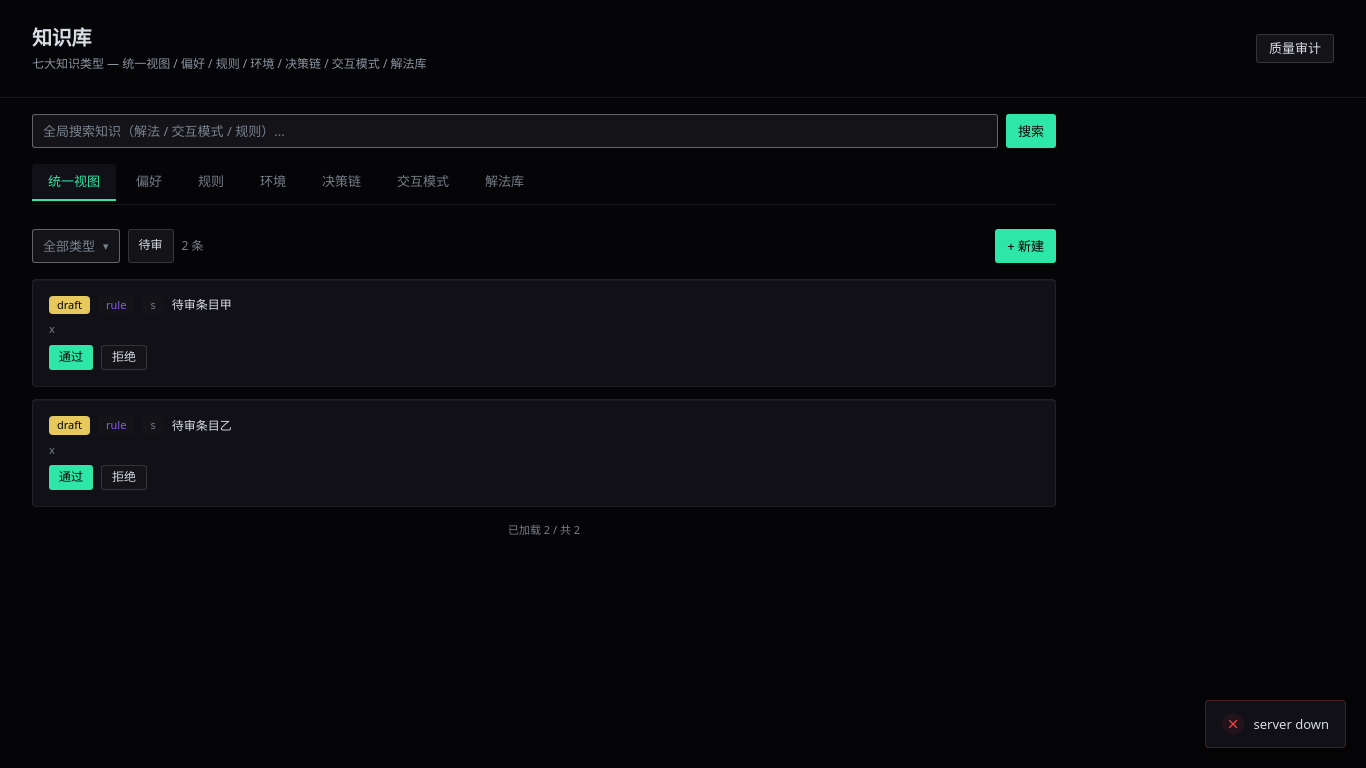
Test: E5: 待审筛选 + draft 条目审批（promote/demote） › 点「通过」调 promote 并把条目移出列表；点「拒绝」调 demote
The width and height of the screenshot is (1366, 768).
Click the button "通过" below "待审条目甲" at (71, 357), box top-left (49, 345), bottom-right (93, 370)
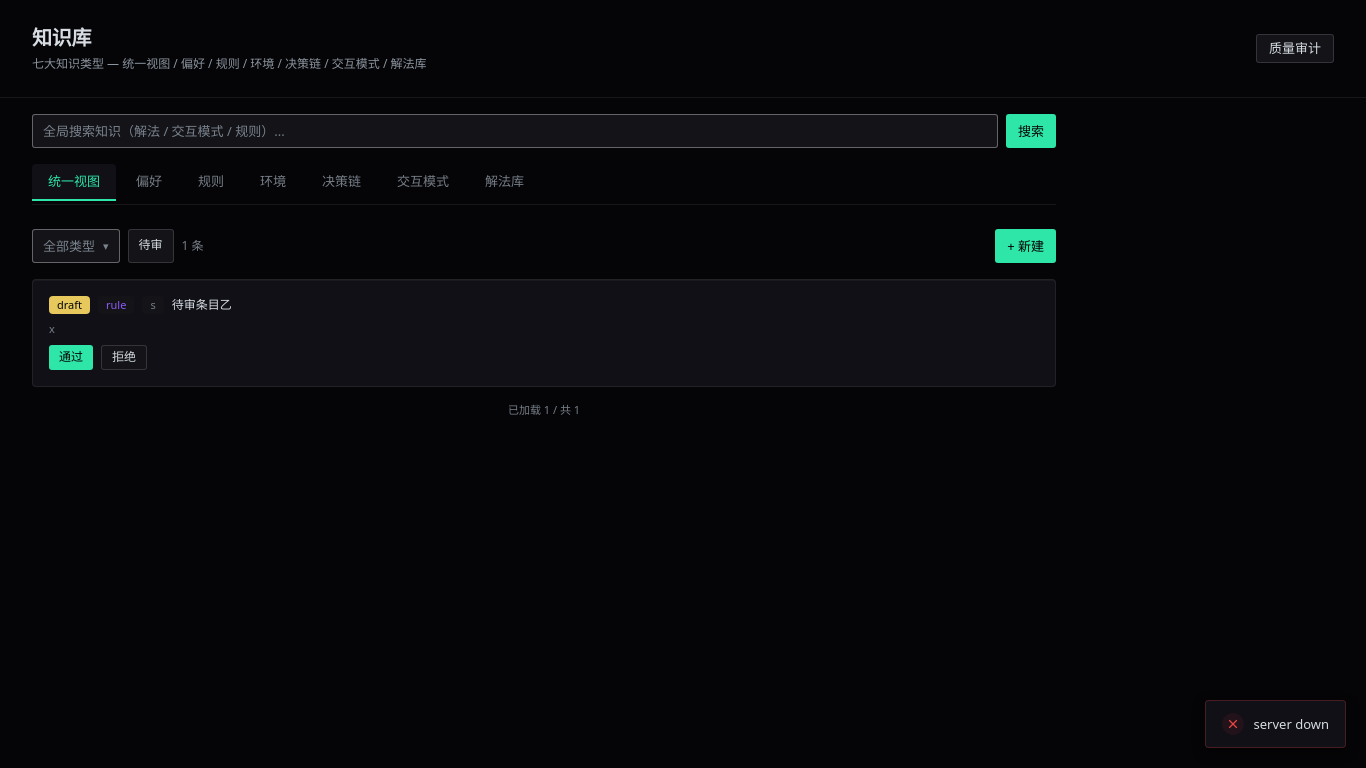
Expected: the text "待审条目乙" is shown, top-left (172, 296), bottom-right (232, 314)
Expected: the text "待审条目甲" is gone
Click the button "拒绝" at (124, 357), box top-left (101, 345), bottom-right (147, 370)
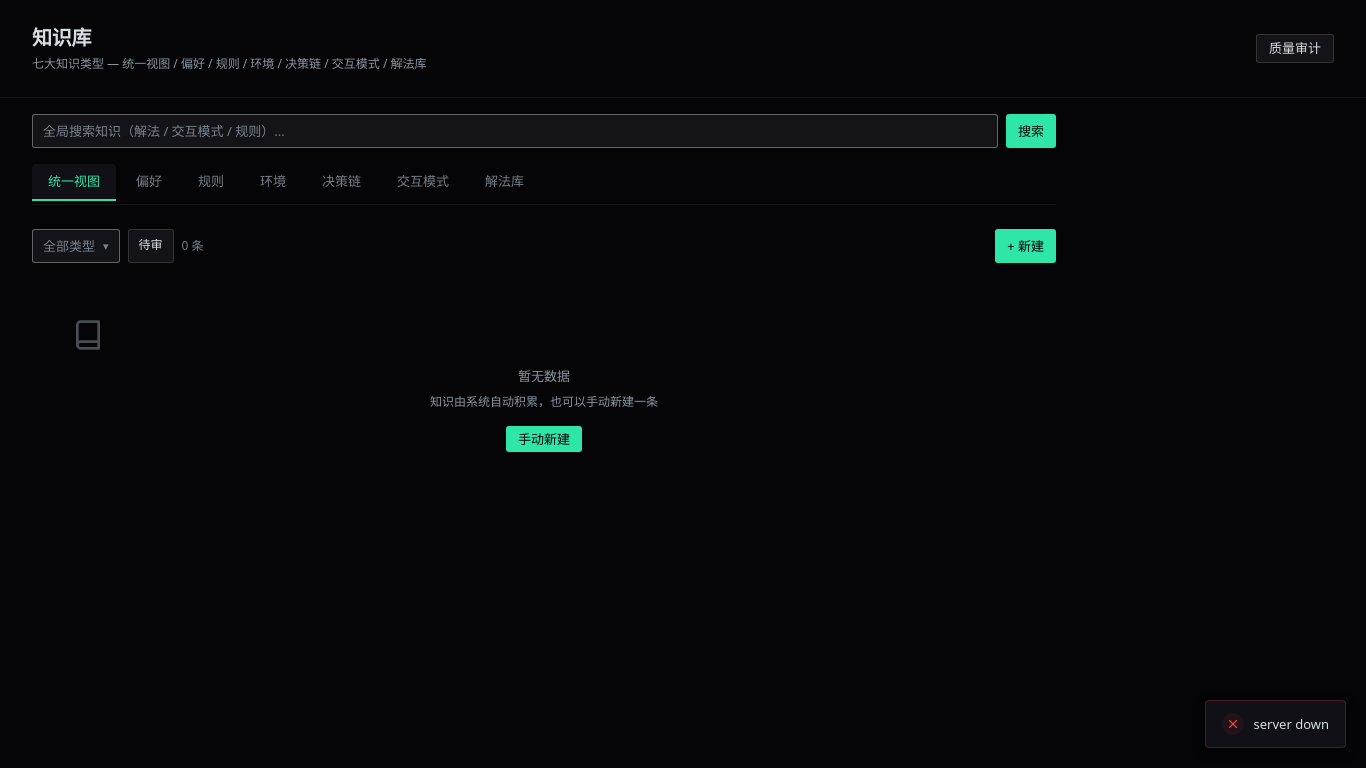
Expected: the text "待审条目乙" is gone
